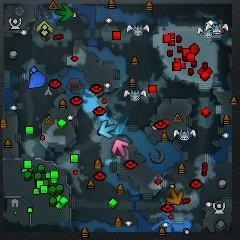p1: (28, 71, 46, 89)
x1: (112, 139, 129, 156)
x2: (37, 21, 53, 40)
x3: (99, 121, 117, 138)
x4: (54, 3, 73, 22)
x5: (166, 187, 183, 205)
